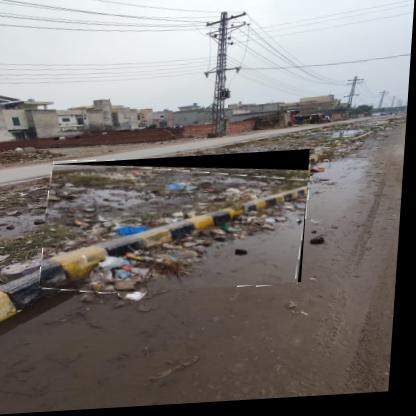Garbage: (45, 154, 314, 300)
